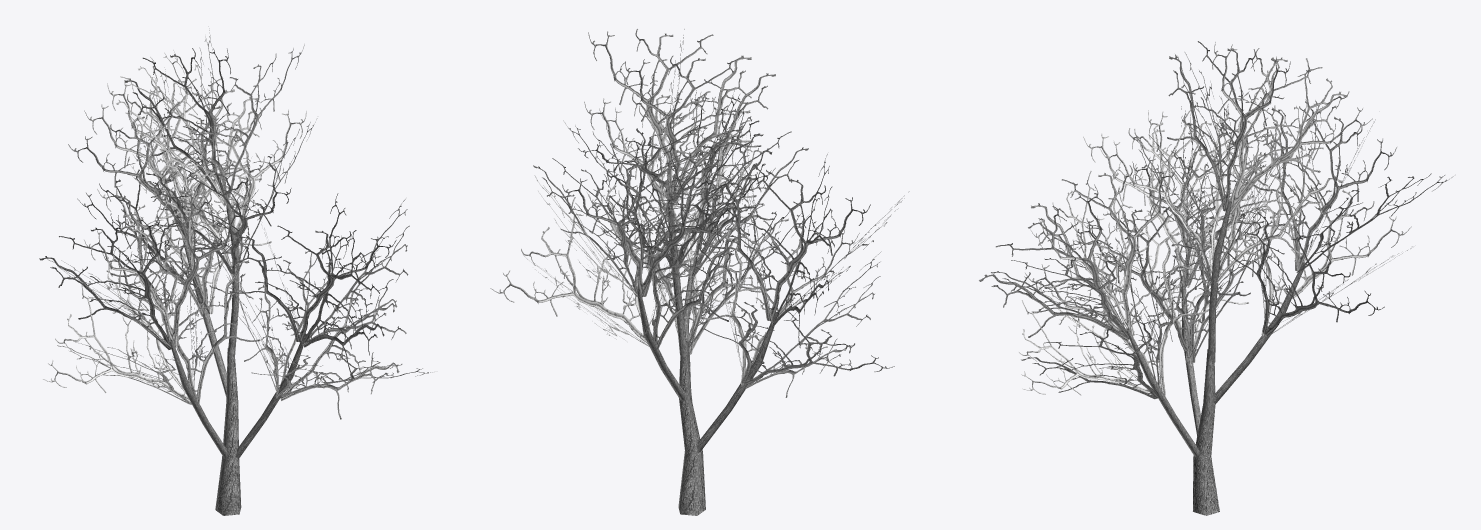
Rendered from winter tree4.FBX.
3 renders of one model, left to right at view 1: azimuth 30°, elevation 25°; view 2: azimuth 150°, elevation 25°; view 3: azimuth 270°, elevation 25°, orthographic. The views are drawn at different scales.
Visible parts, largest first — view 1: winter tree4; view 2: winter tree4; view 3: winter tree4.
Part boxes in pixels (x1,y1,x2,y2): winter tree4: (39, 26, 432, 515); winter tree4: (490, 29, 909, 515); winter tree4: (979, 41, 1453, 515).
Size of the model in its own units: 43.66 by 57.71 by 56.46.
